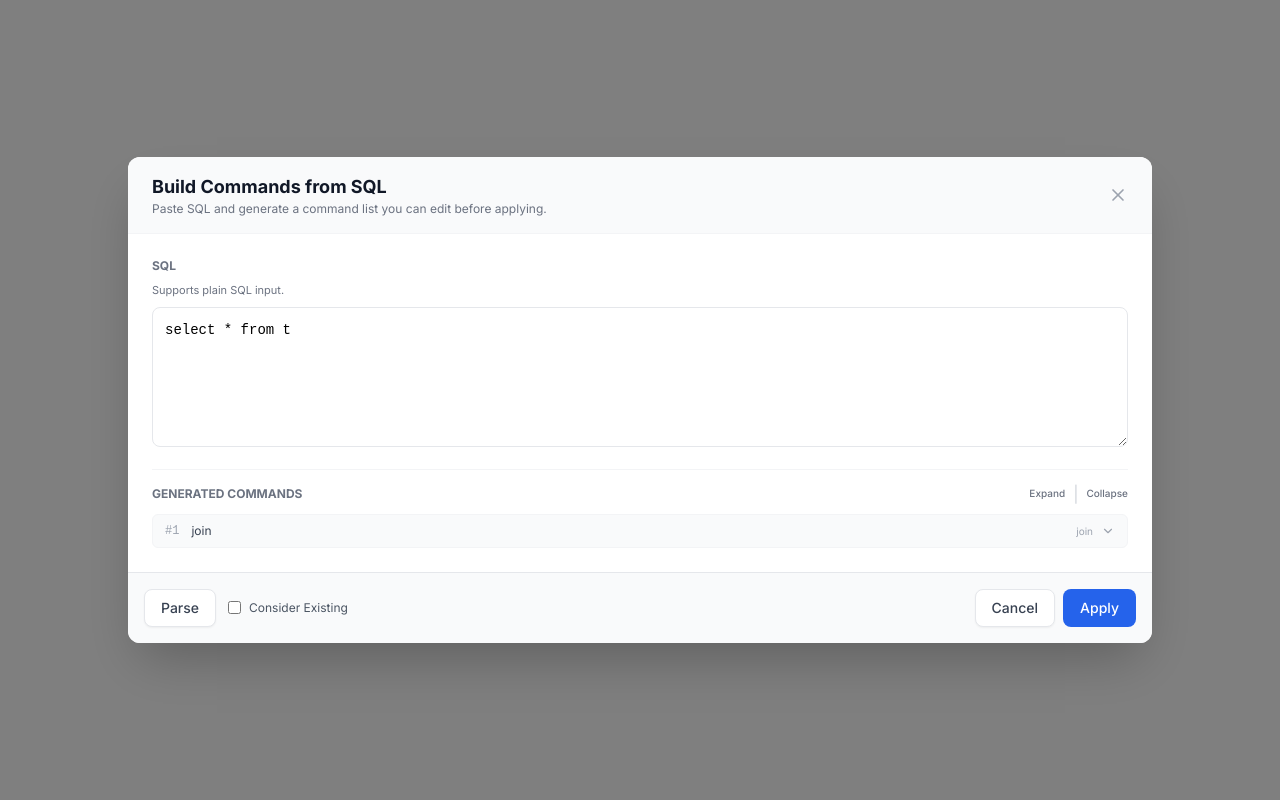
Scenario: SqlBuilderModal editable command sections › renders editable join section
What coordinates should you click on to do the following:
click the button "#1 join join"
I would click on:
 (169, 531)
Its box is [153,515,1127,547].
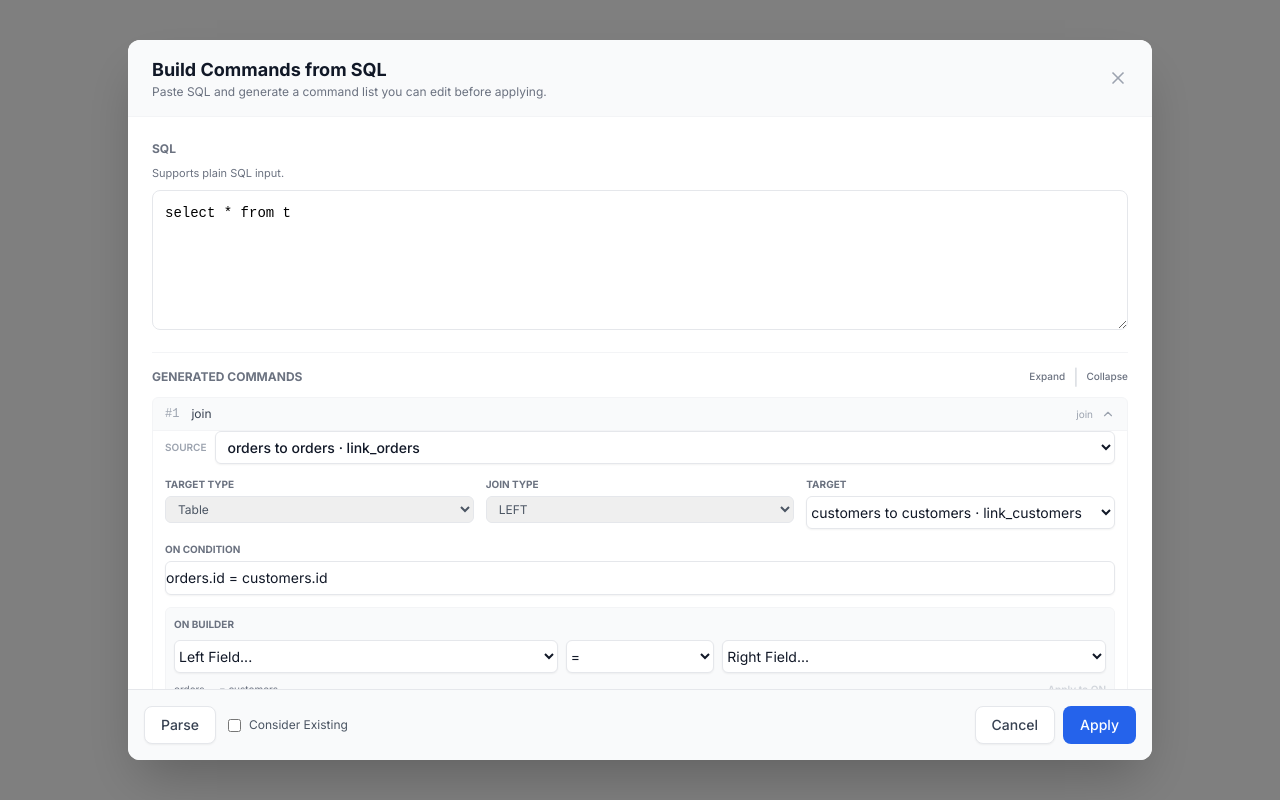
expect the text "Join Type" is shown: met, box [486,478,539,490]
expect the text "ON Condition" is shown: met, box [165,542,240,554]
expect the field with placeholder "left.id = right.user_id" is enabled: met, box [165,560,1115,594]
